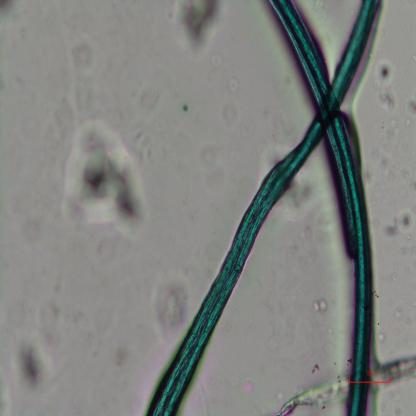Background material: (64, 119, 152, 240), (66, 38, 106, 113), (174, 0, 225, 56), (12, 334, 50, 393), (156, 277, 188, 337), (45, 291, 73, 345), (374, 59, 398, 112), (381, 208, 416, 236), (377, 116, 403, 152), (0, 1, 22, 20), (210, 50, 224, 74), (312, 296, 329, 314), (227, 76, 243, 92), (182, 103, 192, 115)
Cotton: (278, 353, 416, 415)
Microfibre: (145, 1, 382, 415), (268, 1, 375, 415)
